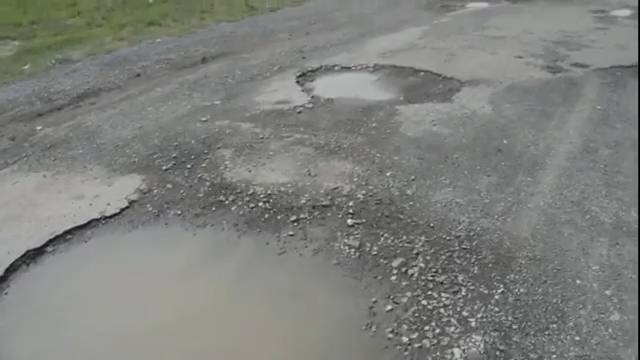pothole: (99, 243, 399, 360)
